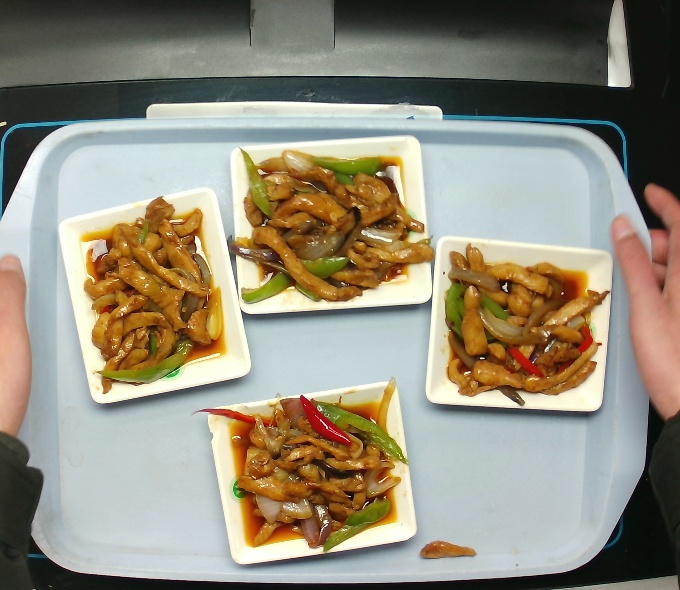wcq-YangCongChaoJiLiu: (187, 375, 415, 558), (223, 142, 439, 309), (69, 192, 236, 402), (438, 239, 616, 411)
